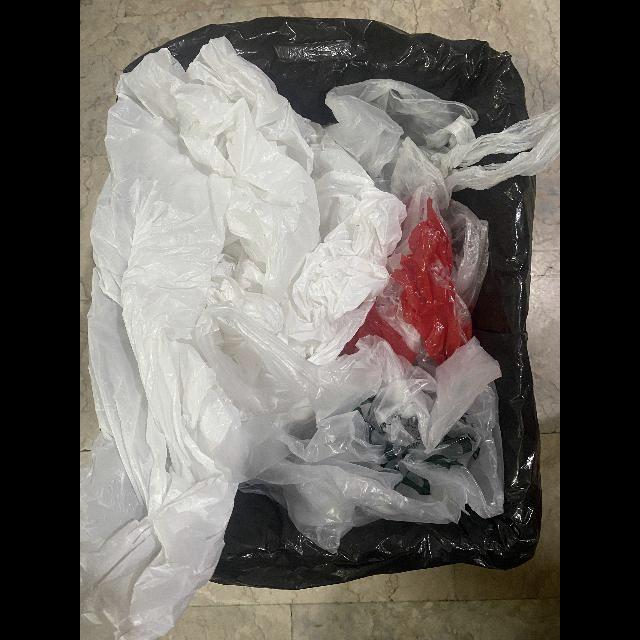plastic_bag: (80, 38, 406, 640), (191, 308, 505, 555), (325, 79, 560, 210), (339, 188, 490, 380)
